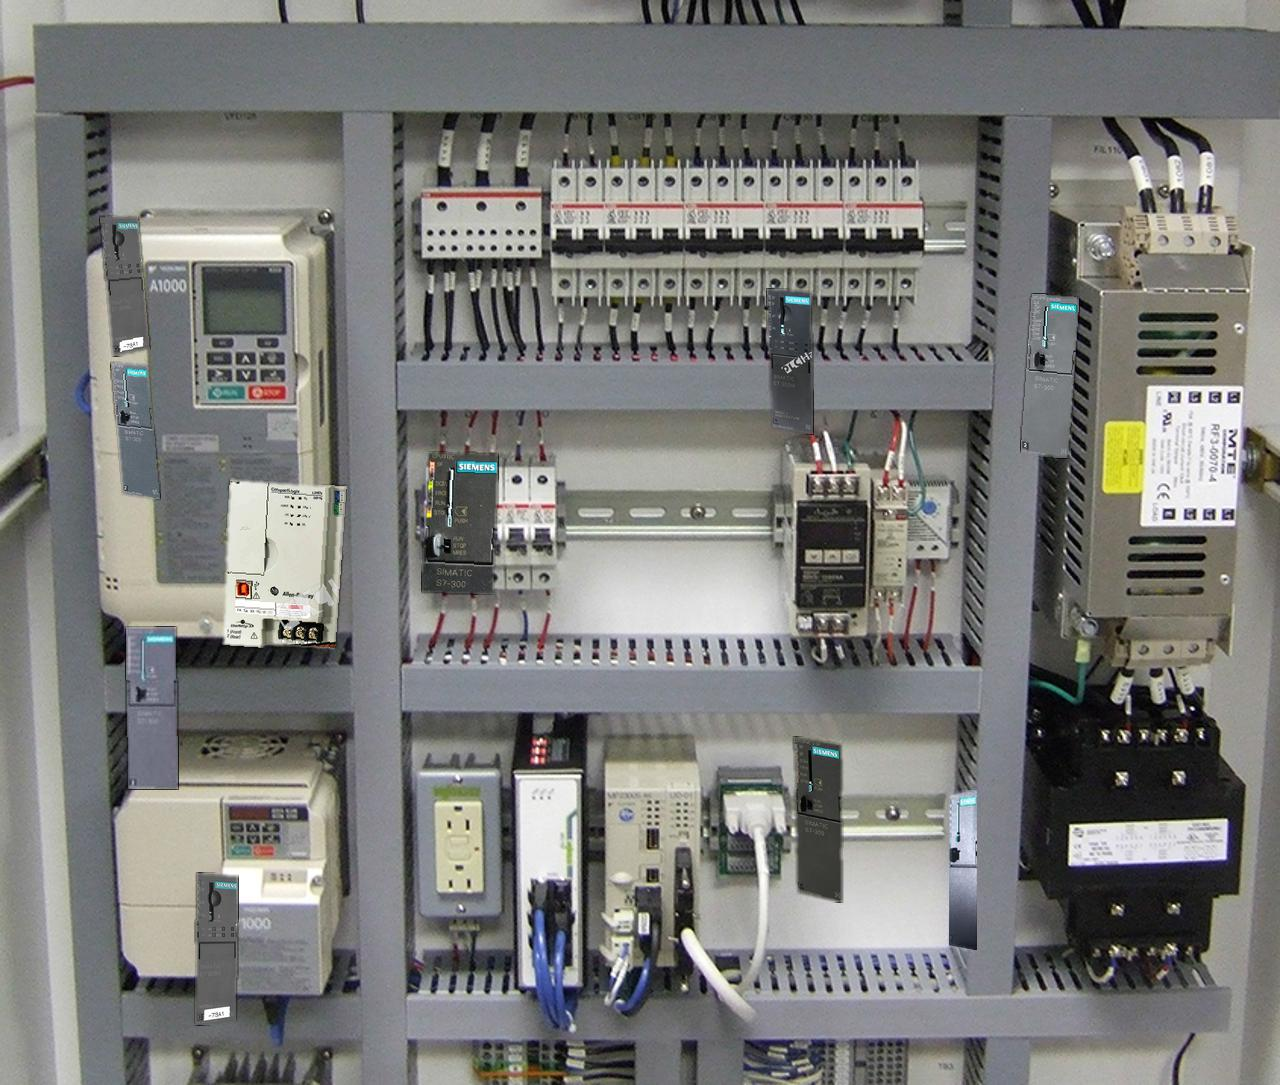AllenBradley: (223, 480, 344, 647)
Siemens: (422, 453, 497, 593), (1021, 294, 1078, 457), (126, 628, 177, 788), (794, 737, 841, 901), (111, 363, 159, 498), (950, 790, 976, 949)
